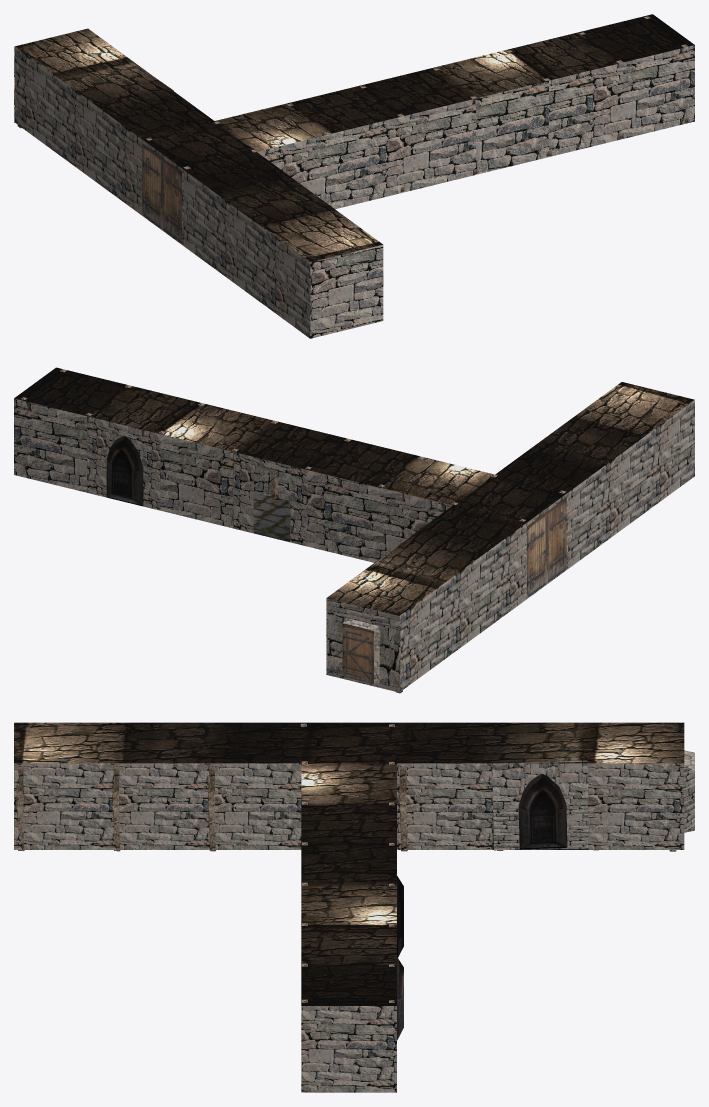
The model's file is bake-corridor2.0.fbx.
The picture shows the model from 3 angles, top to bottom: view 1: azimuth 30°, elevation 25°; view 2: azimuth 150°, elevation 25°; view 3: azimuth 270°, elevation 25°; orthographic projection. The views are drawn at different scales.
Parts seen in each view (by area): view 1: corridor, coling; view 2: corridor, coling, floor, beans; view 3: corridor, coling, beans.
Part boxes in pixels (box(x1,y1,x2,y2)): corridor: box(14, 45, 694, 338); coling: box(15, 14, 694, 262); corridor: box(14, 398, 694, 692); coling: box(14, 367, 694, 615); floor: box(87, 491, 327, 674); beans: box(21, 369, 565, 693); corridor: box(14, 750, 694, 1092); coling: box(14, 722, 684, 1005); beans: box(16, 723, 676, 1002).
Size of the model in its own units: 1403 by 211 by 1423.
